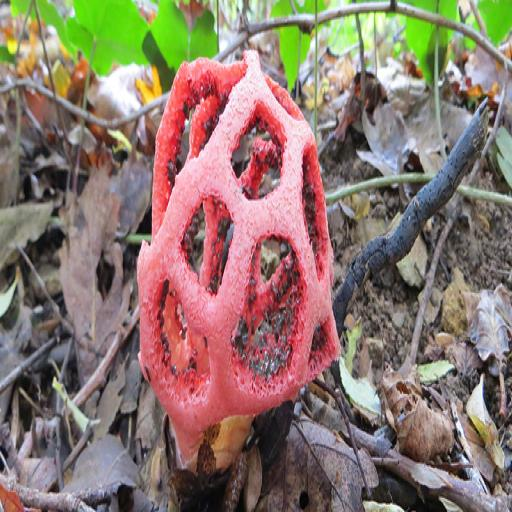Red Cage Fungus: (137, 54, 342, 465)
